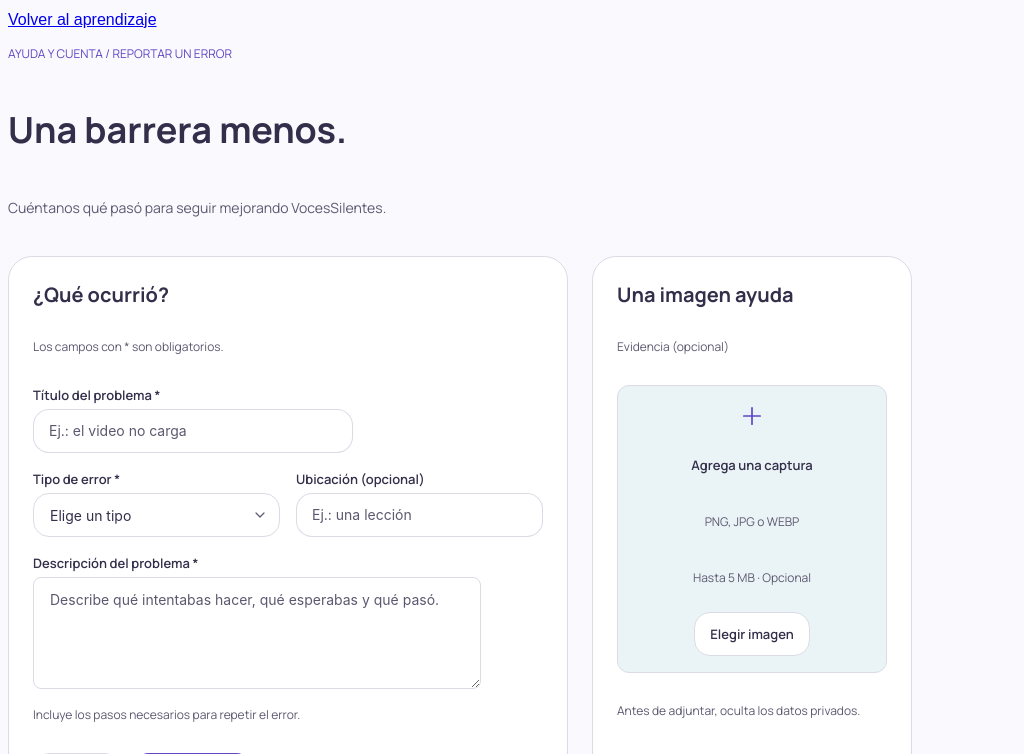
Test: reporte: cancelar regreso conserva campos y confirmar descarte permite navegar
Type "Borrador" into the field labelled "Título del problema *" at coordinates (193, 431), box x1=49 y1=421 x2=337 y2=441
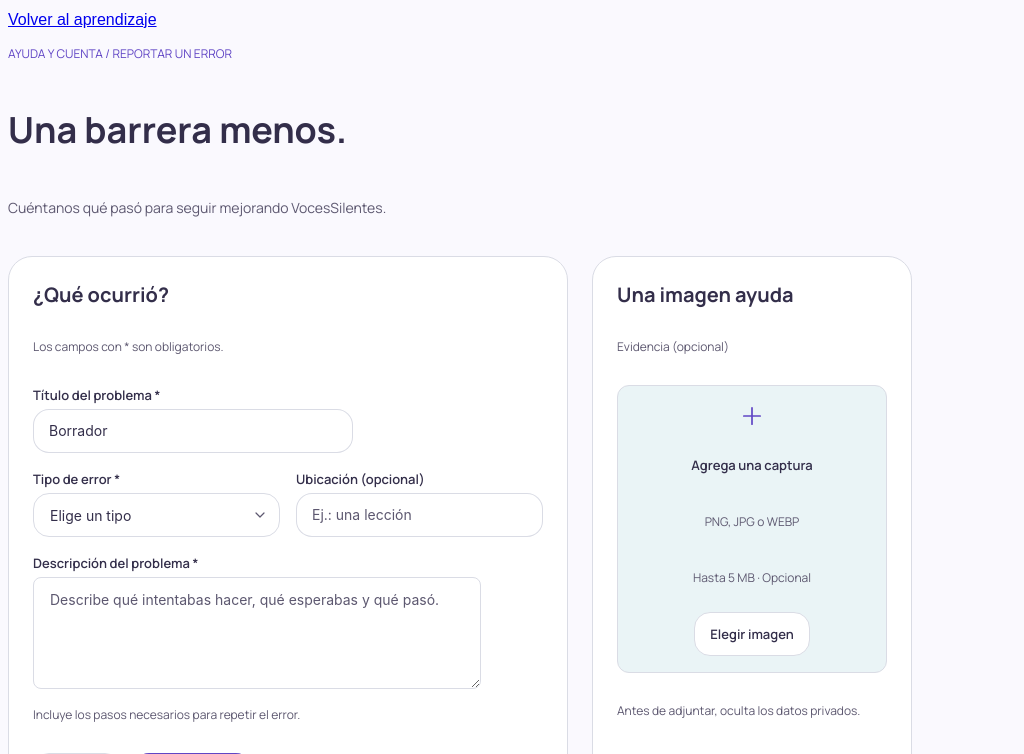
Click the link "Volver al aprendizaje" at coordinates (82, 20), box x1=8 y1=11 x2=156 y2=28
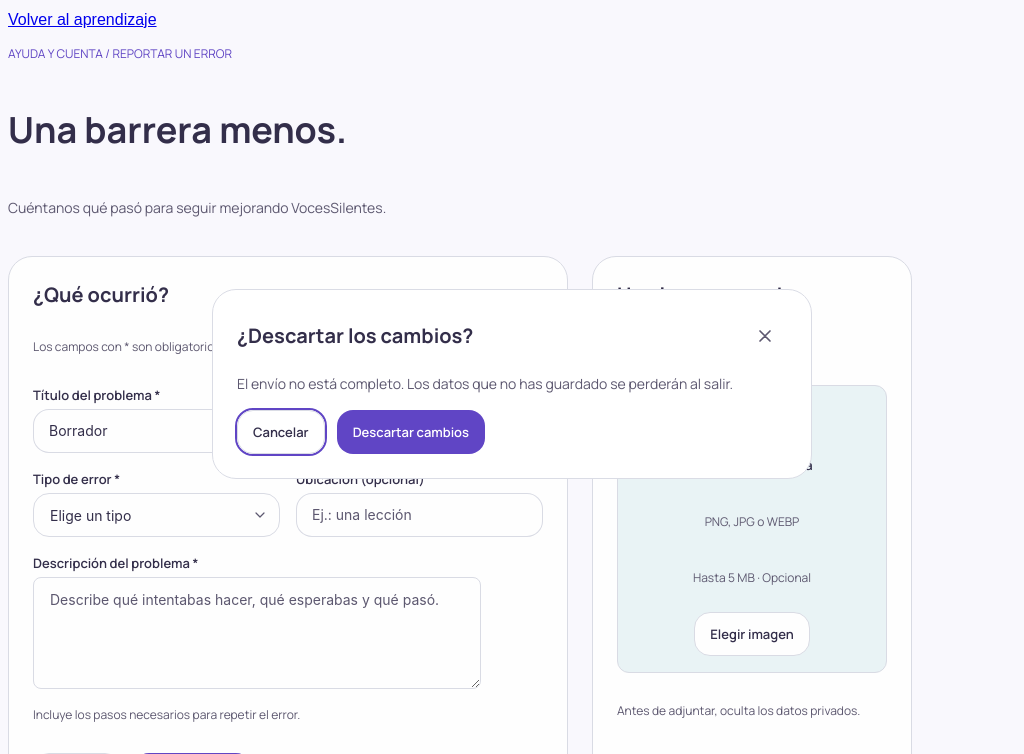
Click the button "Cancelar" at coordinates (281, 432), box x1=237 y1=410 x2=325 y2=454
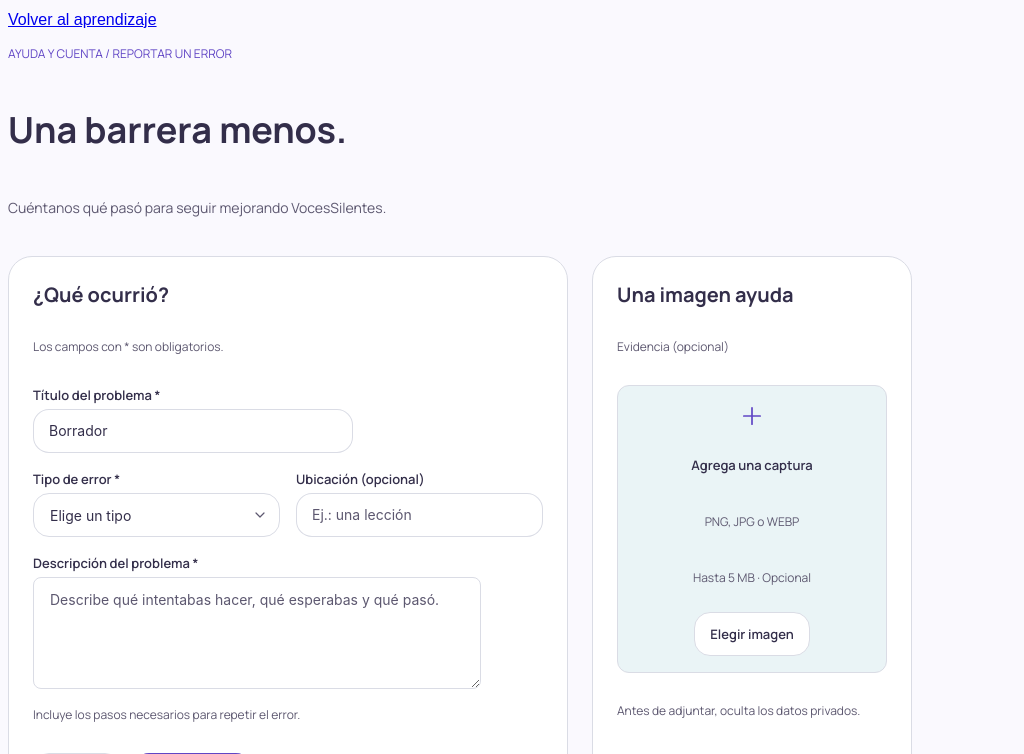
Click the link "Volver al aprendizaje" at coordinates (82, 20), box x1=8 y1=11 x2=156 y2=28
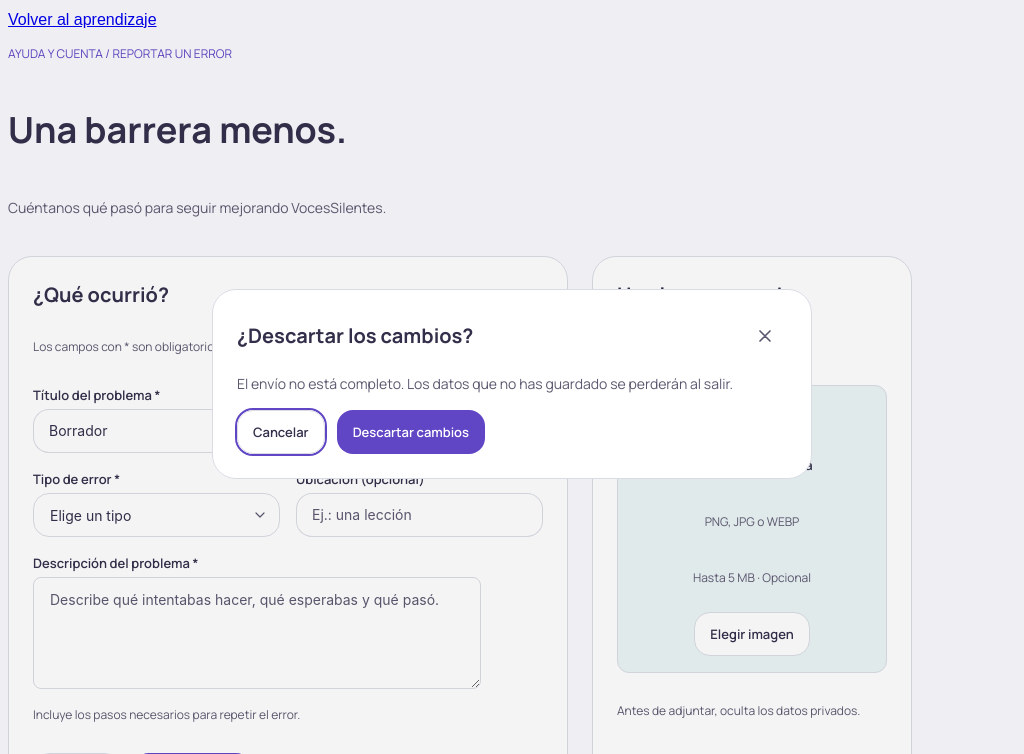
Click the button "Descartar cambios" at coordinates (411, 432), box x1=337 y1=410 x2=485 y2=454
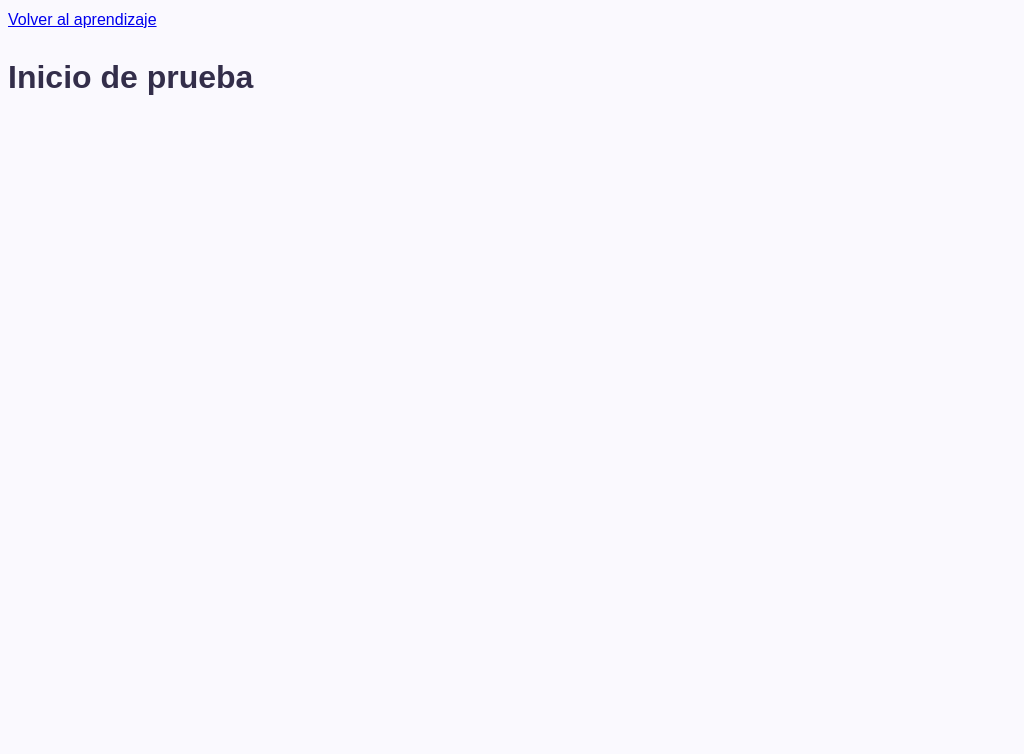
Check: the heading "Inicio de prueba" is shown, box x1=8 y1=59 x2=253 y2=95
